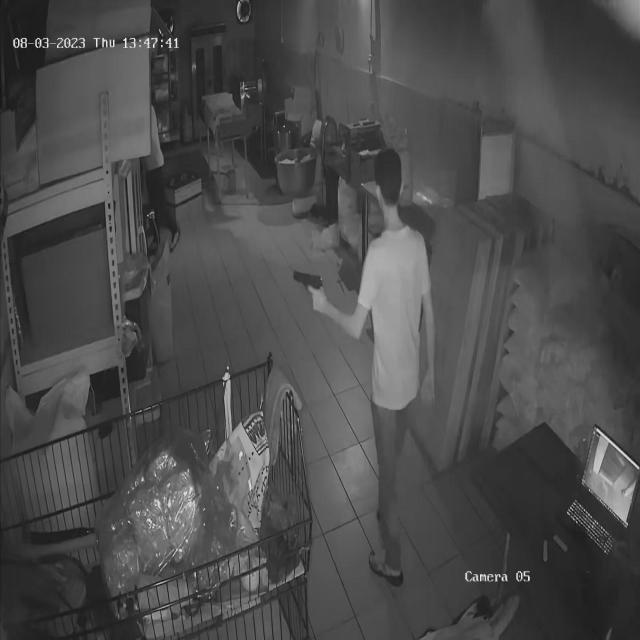Gun: (290, 261, 334, 304)
